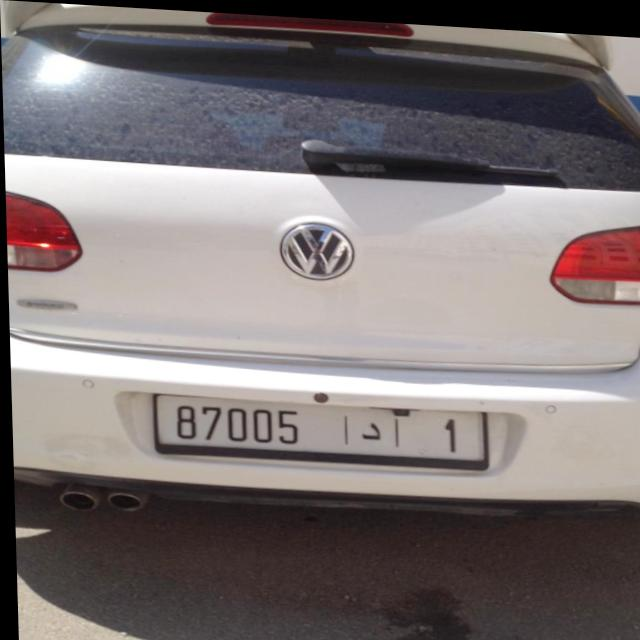License-Plate: (152, 393, 485, 463)
